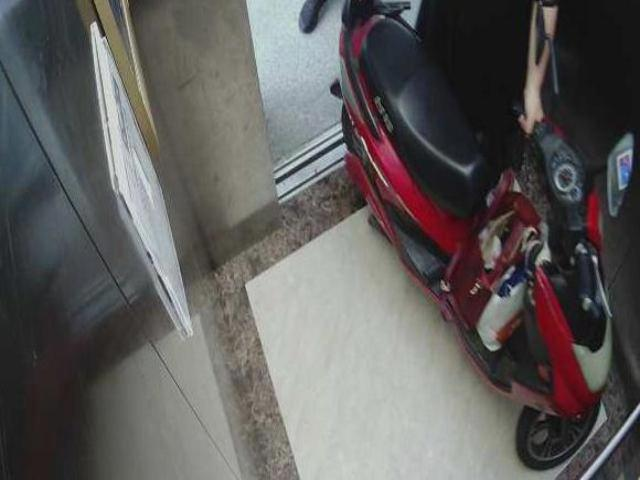emotor: (312, 10, 612, 460)
